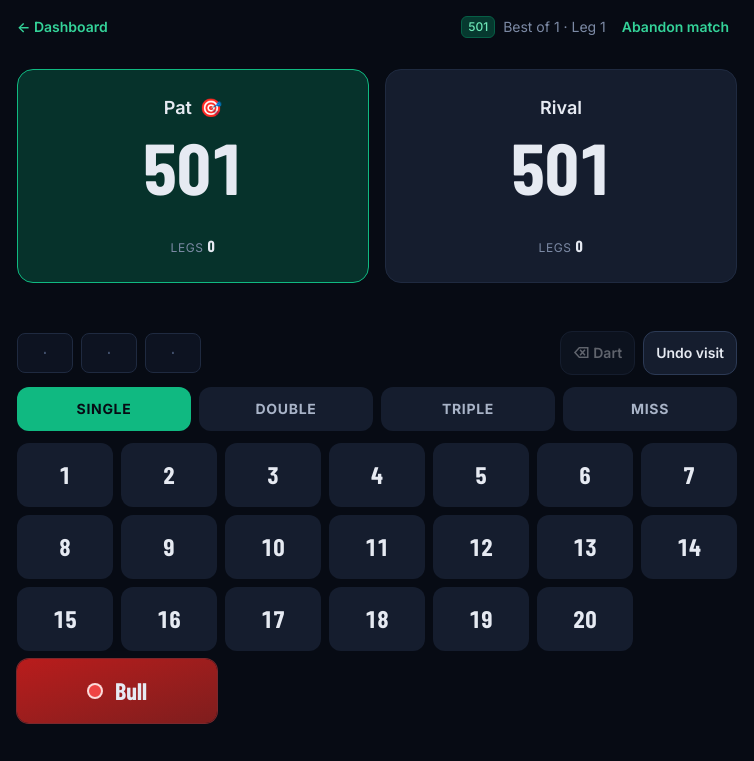
LiveScoringPage 501 feedback › celebrates a 180
Click the button "triple".
click(468, 409)  # box [381,387,555,431]
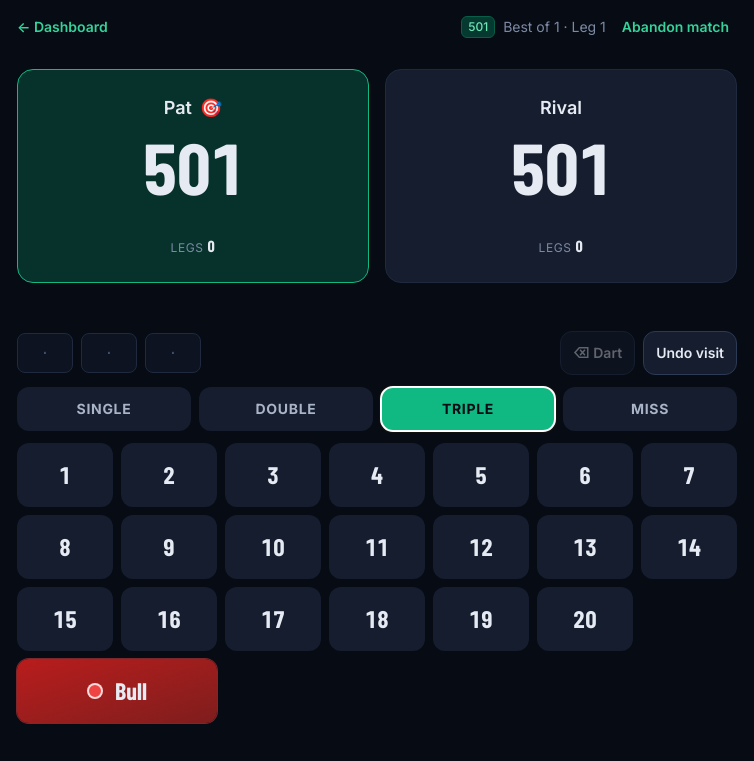
Click the button "20".
click(585, 619)  # box [537,587,633,651]
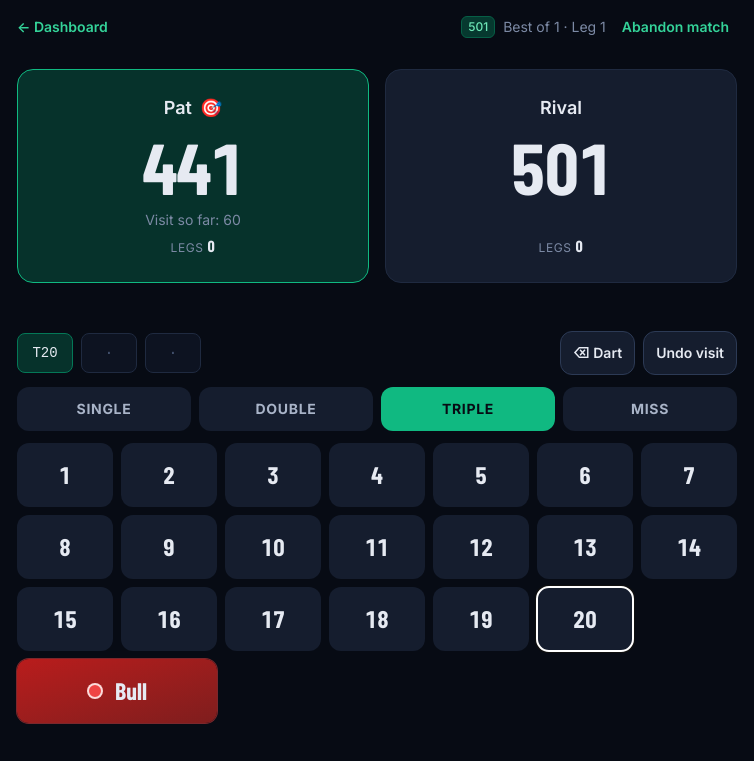
Click the button "20".
click(585, 619)  # box [537,587,633,651]
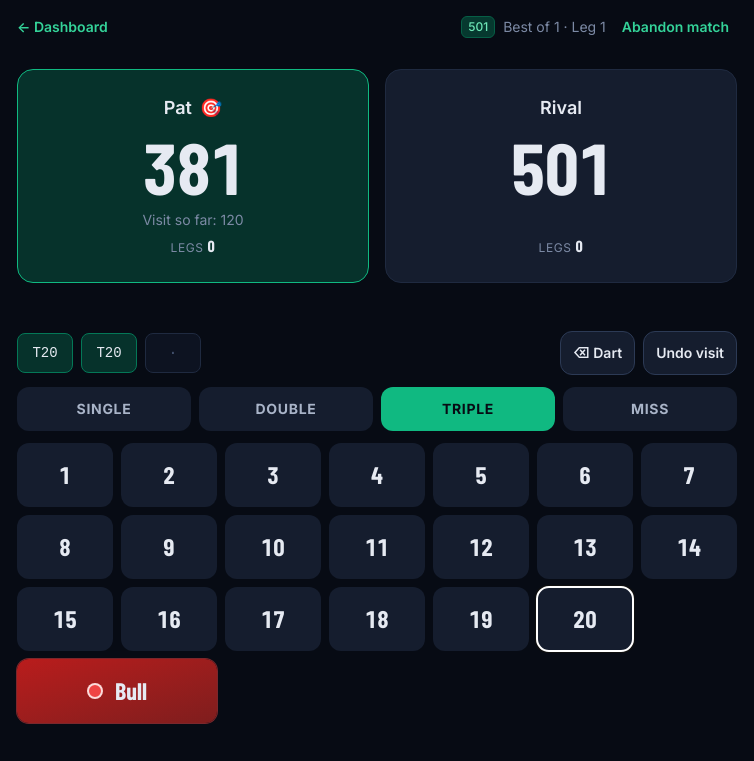
Click the button "20".
click(585, 619)  # box [537,587,633,651]
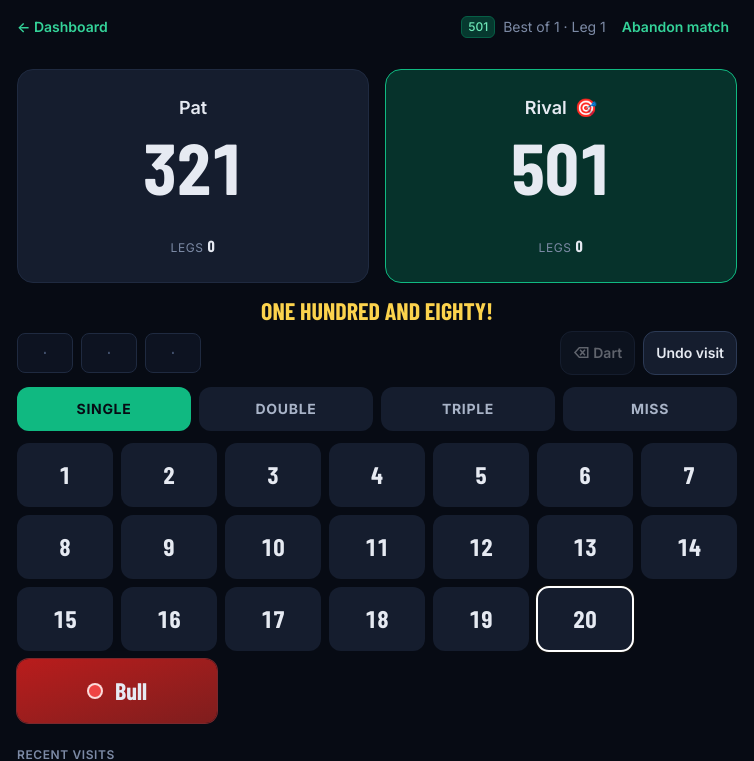
Now the message reads "ONE HUNDRED AND EIGHTY!", box [261,296,493,325]
Now the text "321" is shown, box [142,123,244,209]
